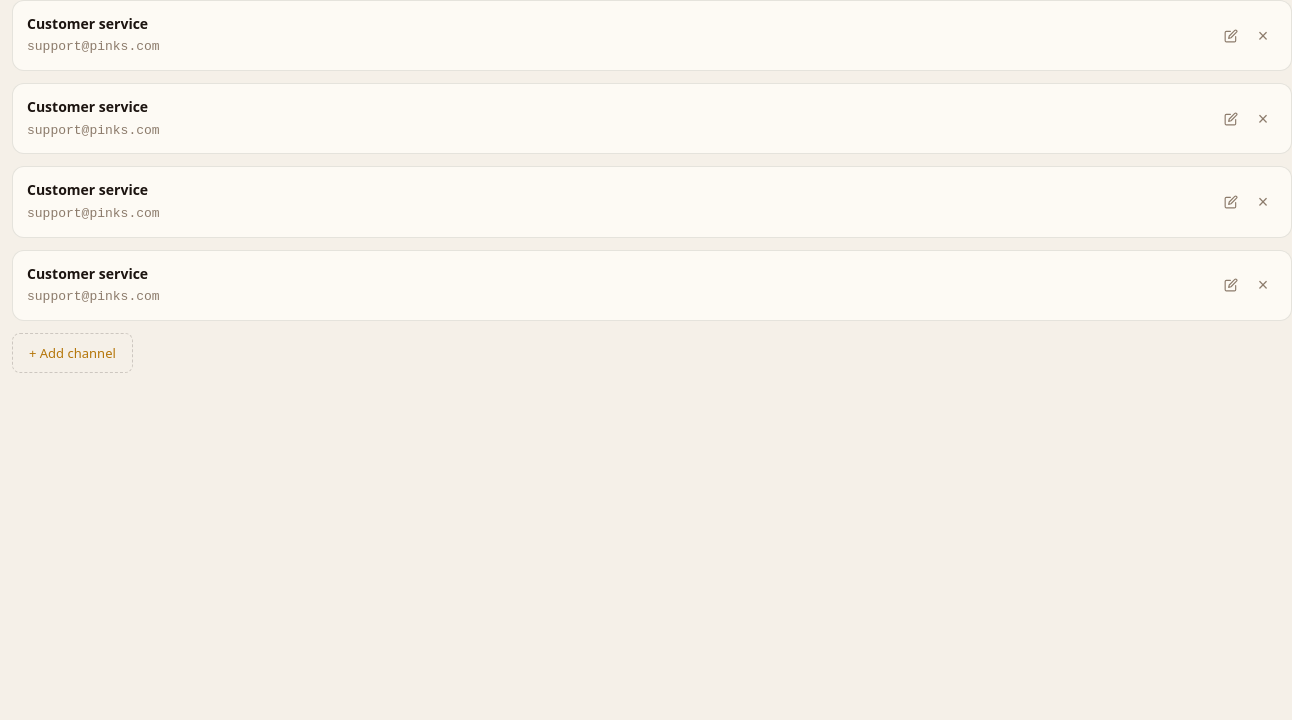
Test case: <ContactChannelsForm /> › disables Add at 5 cards (saved + drafts both count toward cap)
Click the button "+ Add channel" at point(72, 353), box x1=12 y1=333 x2=133 y2=373
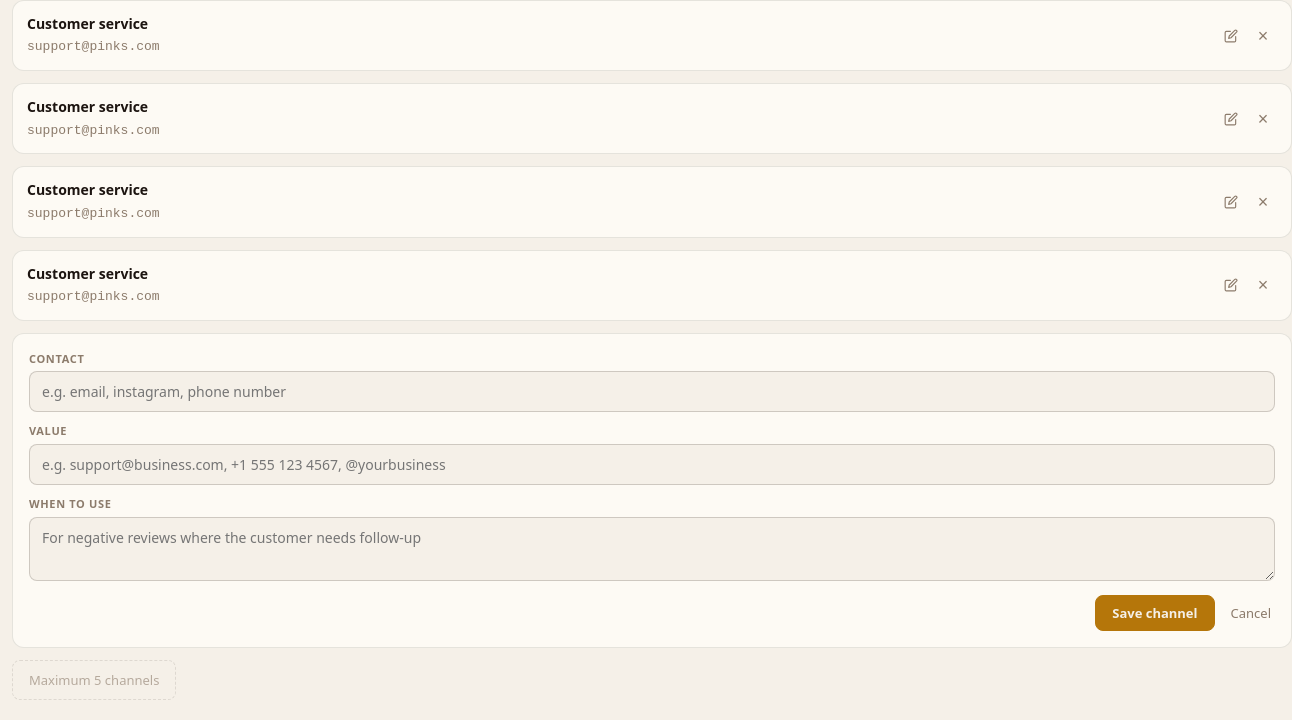
Expected: the button "Maximum 5 channels" is disabled, x1=12 y1=660 x2=176 y2=700
